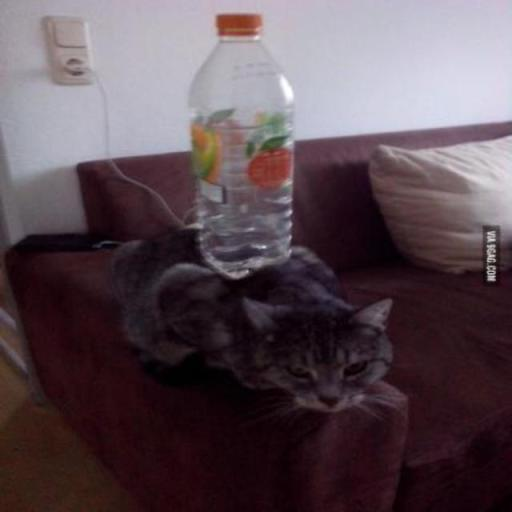Coca: (164, 8, 319, 286)
